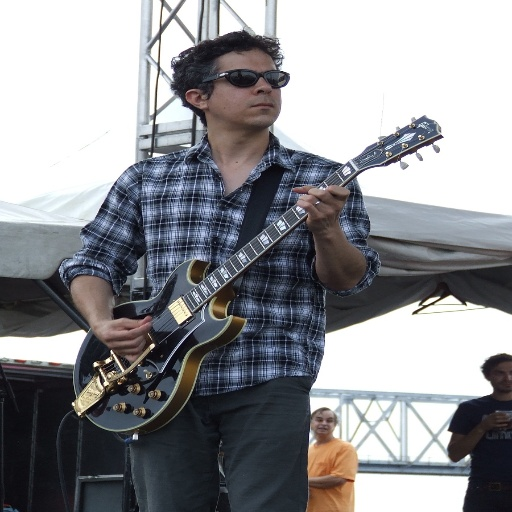hand: (90, 304, 146, 358), (290, 184, 352, 231), (480, 412, 511, 431)
